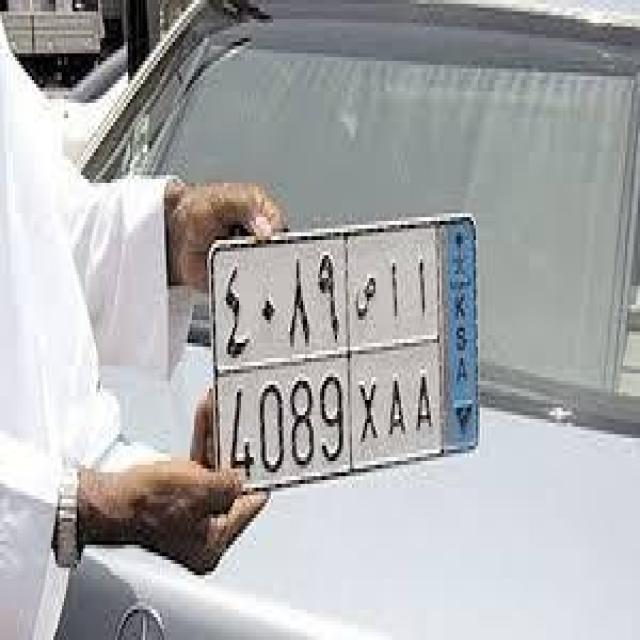license_plate: (181, 194, 476, 499)
